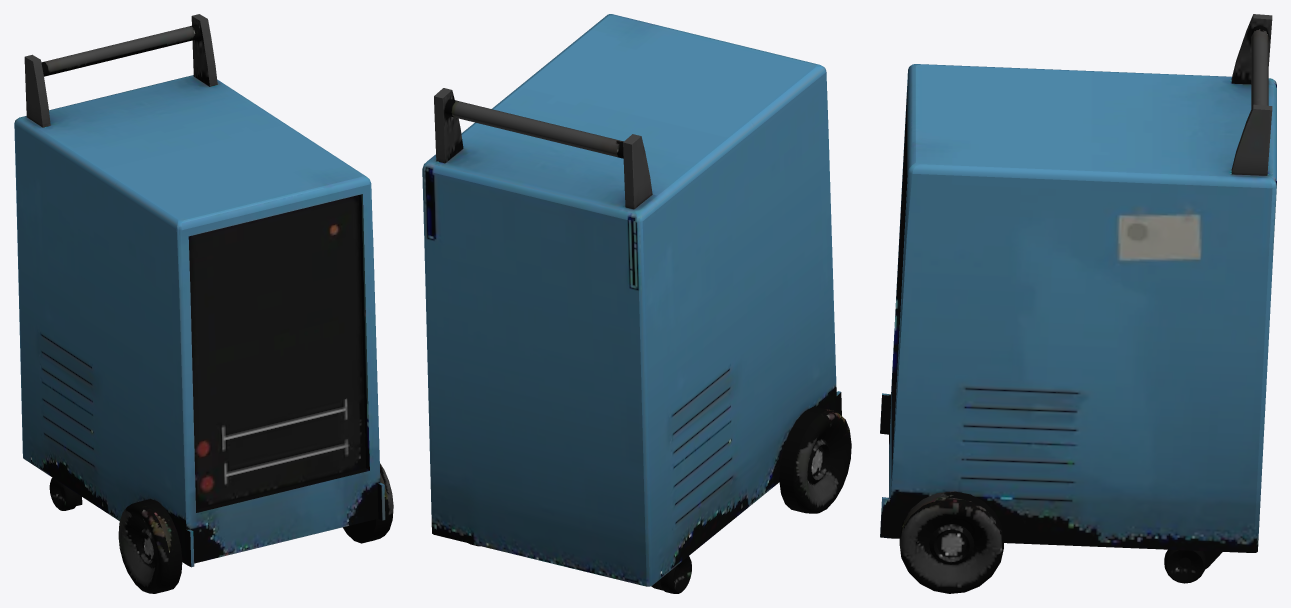
3 views of the same model, side by side, from view 1: azimuth 30°, elevation 25°; view 2: azimuth 150°, elevation 25°; view 3: azimuth 270°, elevation 25° (orthographic). The views are drawn at different scales.
Visible parts, largest first — view 1: body0_model0_lod0_mesh0; view 2: body0_model0_lod0_mesh0; view 3: body0_model0_lod0_mesh0.
Boxes of the visible parts, x1,y1,x2,y2 form: body0_model0_lod0_mesh0: (14, 14, 393, 593); body0_model0_lod0_mesh0: (422, 14, 851, 593); body0_model0_lod0_mesh0: (880, 14, 1276, 593).
Bounding box in the file's own units: 40.35 × 70.12 × 53.33.
Materials: 1 (1 with a texture image).
